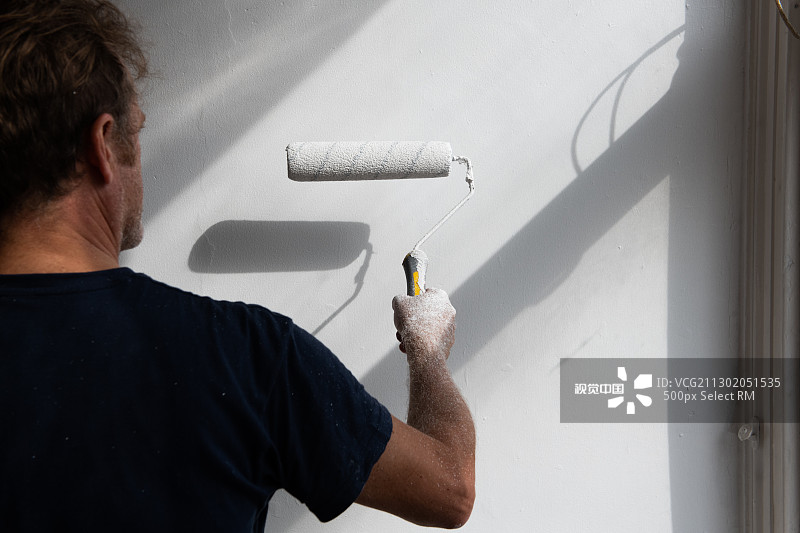no-phone: (374, 254, 476, 376)
